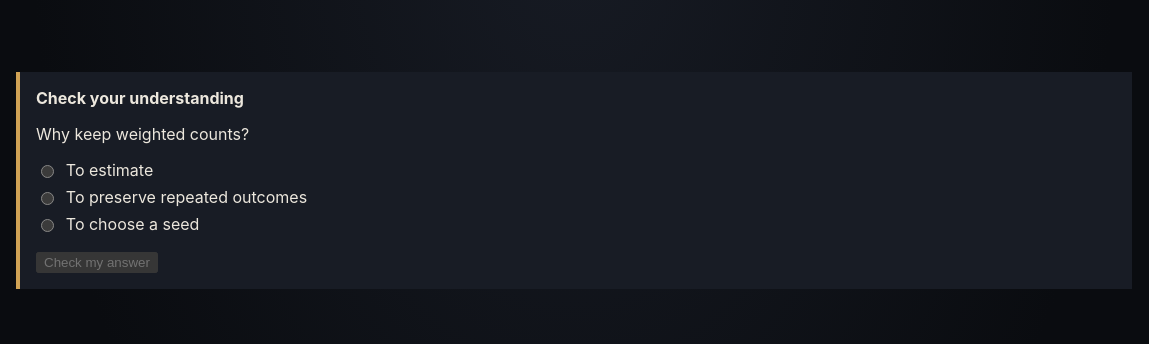
Test: ComprehensionCheck › confirms the correct choice and shows the reason
Click the radio button labelled "To preserve repeated outcomes" at (48, 199), box 41,190 -> 54,207
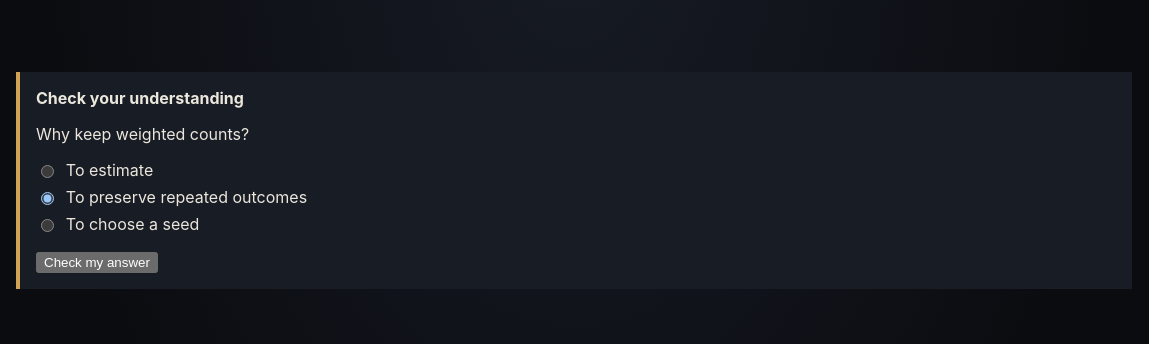
Click the button "Check my answer" at (97, 262), box 36,252 -> 158,273
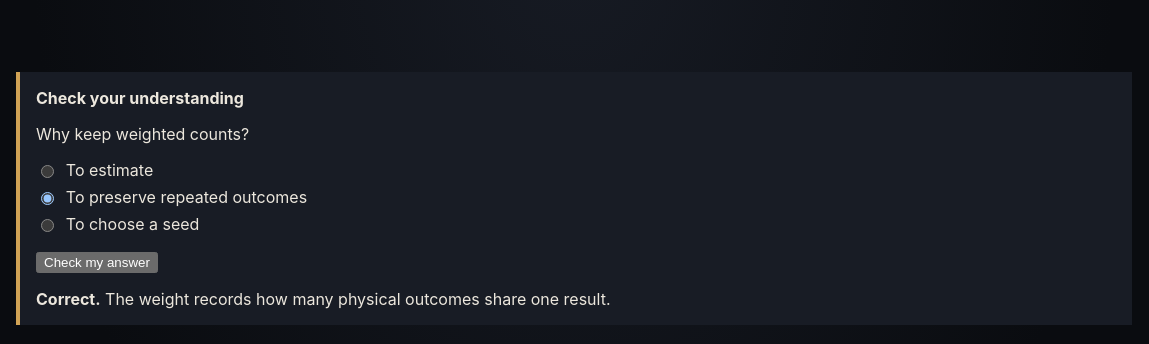
Check: the element with class "check__result" shows "Correct.", box 36,289 -> 101,309
Check: the element with class "check__result" shows "The weight records how many physical outcomes share one result.", box 101,289 -> 611,309
